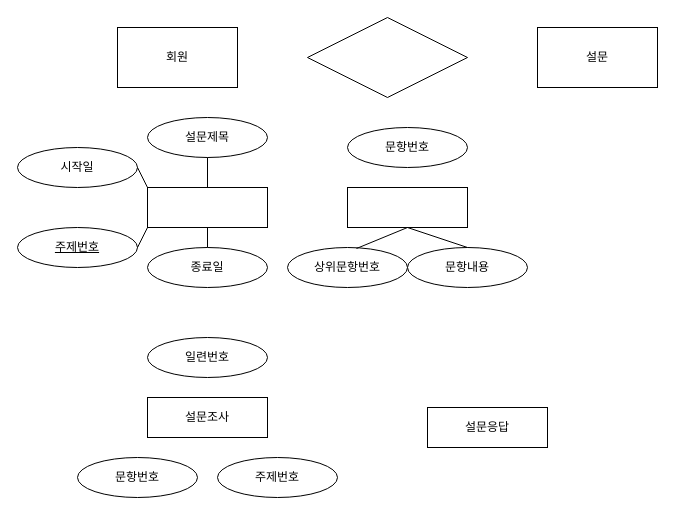
The diagram is 675 pixels wide and 515 high, and some of its shapes have lost their labels. Each missing label, with the box of its shape:
설문문항: (346, 186, 468, 228)
설문주제: (146, 186, 268, 228)
응답: (306, 16, 468, 98)
